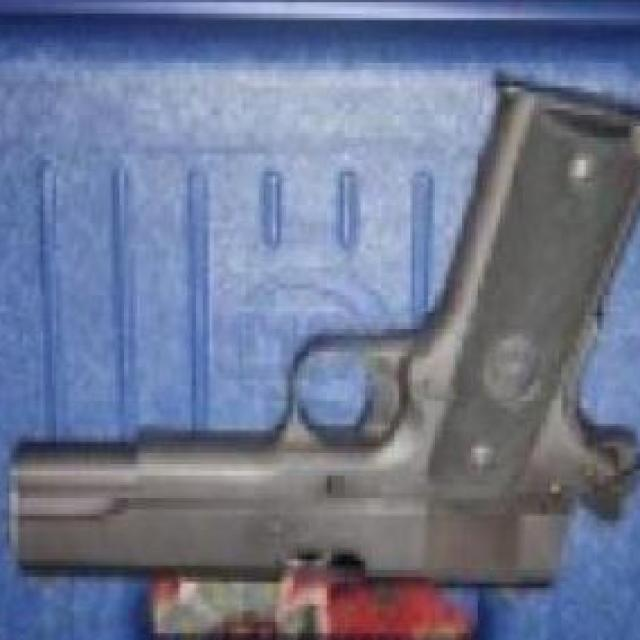pistol: (16, 59, 640, 588)
